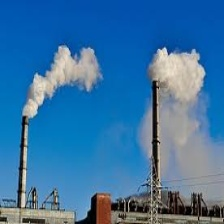smoke: (18, 52, 105, 116), (149, 47, 207, 96)
